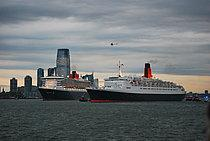Ship: (87, 61, 189, 105), (37, 67, 94, 104)
